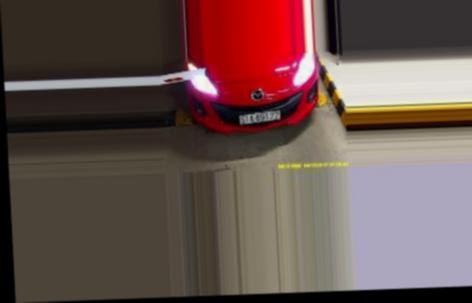License_Plate: (234, 109, 283, 126)
